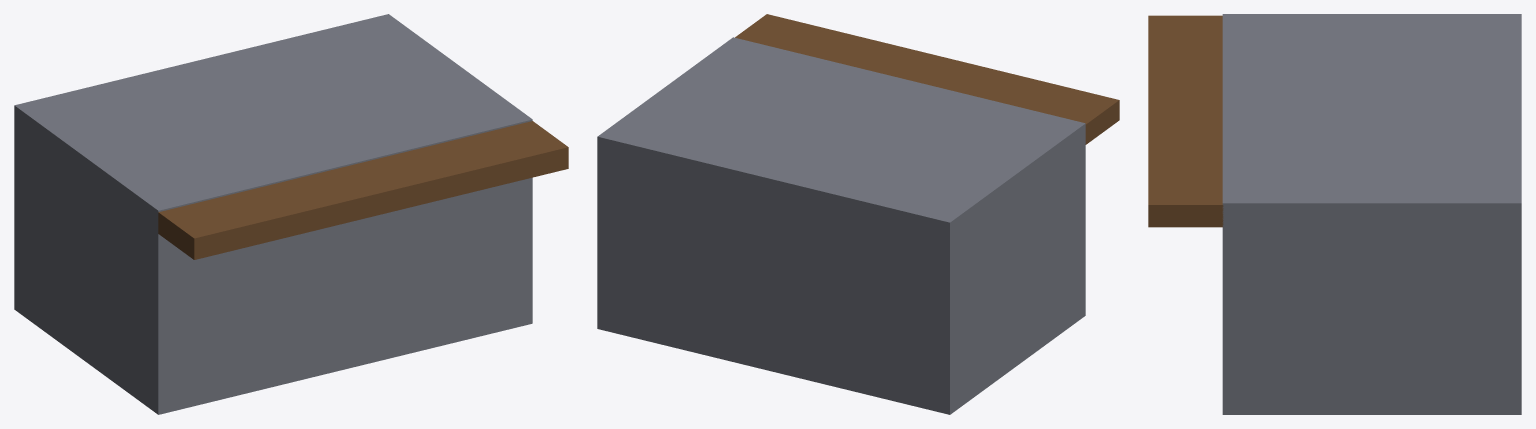
Rendered from building 3.fbx.
3 views of the same model, side by side, from view 1: azimuth 30°, elevation 25°; view 2: azimuth 150°, elevation 25°; view 3: azimuth 270°, elevation 25° (orthographic). The views are drawn at different scales.
Parts seen in each view (by area): view 1: pCube20, pCube21; view 2: pCube20, pCube21; view 3: pCube20, pCube21.
Boxes of the visible parts, x1,y1,x2,y2 form: pCube20: [14, 14, 532, 414]; pCube21: [158, 121, 568, 259]; pCube20: [597, 37, 1085, 414]; pCube21: [735, 14, 1119, 144]; pCube20: [1222, 14, 1521, 414]; pCube21: [1148, 15, 1223, 227].
Bounding box in the file's own units: 12 × 6.25 × 9.99.
